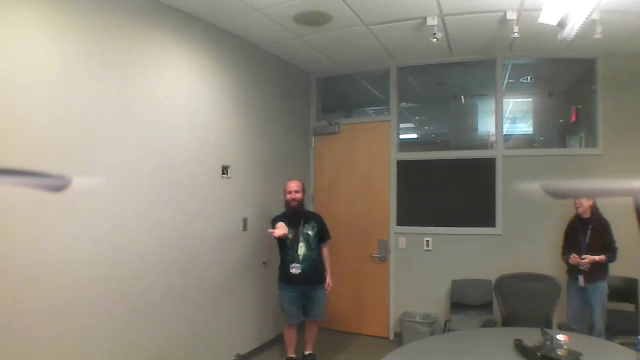land: (259, 226, 300, 250)
